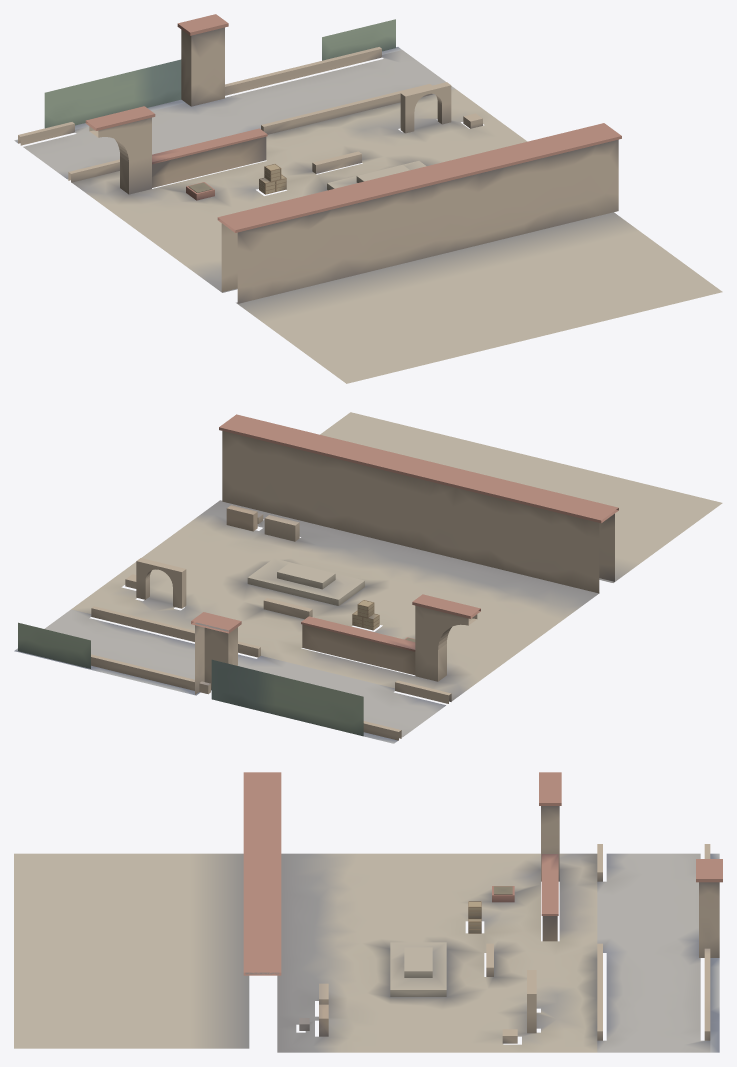
3 views of the same model, one above another, from view 1: azimuth 30°, elevation 25°; view 2: azimuth 150°, elevation 25°; view 3: azimuth 270°, elevation 25° (orthographic). The views are drawn at different scales.
Parts seen in each view (by area): view 1: t; view 2: t; view 3: t.
Part boxes in pixels (bbox=[...]): t: bbox=[14, 14, 722, 383]; t: bbox=[14, 412, 722, 743]; t: bbox=[14, 772, 722, 1052].
Bounding box in the file's own units: 50.4 × 9.4 × 75.36.
